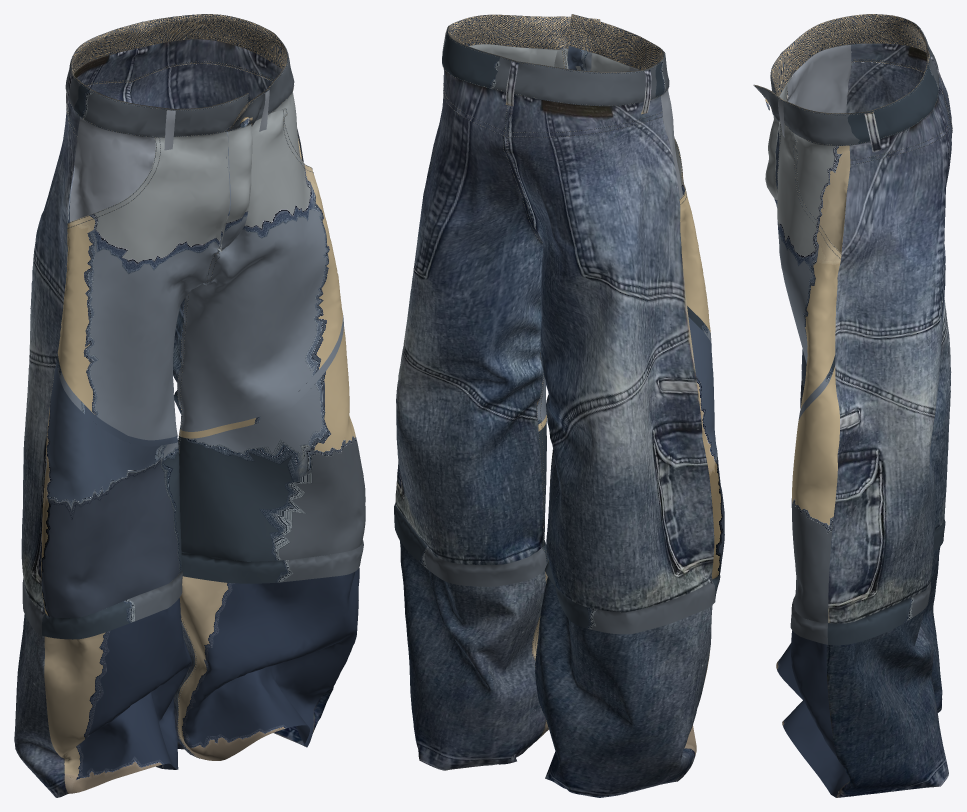
File: baggy.glb
3 renders of one model, left to right at view 1: azimuth 30°, elevation 25°; view 2: azimuth 150°, elevation 25°; view 3: azimuth 270°, elevation 25°, orthographic. The views are drawn at different scales.
Parts seen in each view (by area): view 1: Object_4, Object_15; view 2: Object_15, Object_4; view 3: Object_15, Object_4.
Part boxes in pixels (x1,y1,x2,y2): Object_4: (22, 14, 365, 793); Object_15: (14, 21, 333, 797); Object_15: (395, 25, 714, 797); Object_4: (394, 14, 724, 755); Object_15: (826, 43, 952, 797); Object_4: (753, 14, 952, 797).
Size of the model in its own units: 0.7816 by 1.68 by 0.4408.
2 materials, 2 textured.
